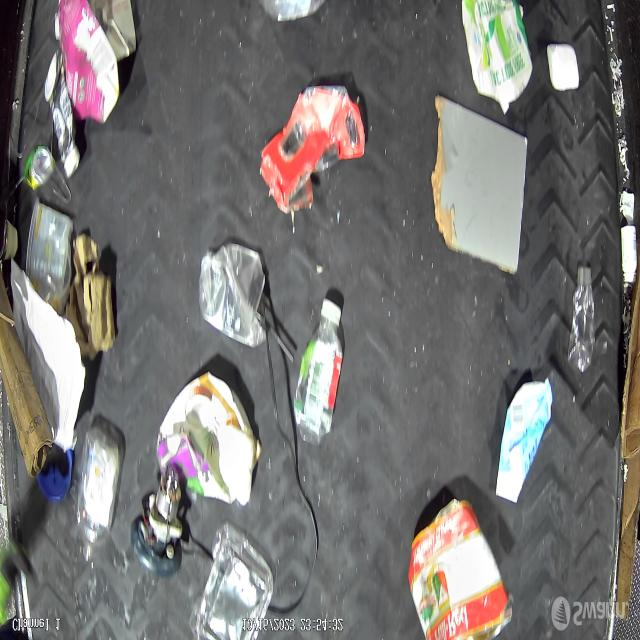can: (406, 498, 514, 639), (23, 147, 54, 189)
non_white_jug: (156, 371, 255, 507), (54, 0, 120, 125), (462, 0, 534, 103), (496, 378, 554, 503)
plastic_bottle: (293, 302, 341, 442), (570, 265, 597, 374)
